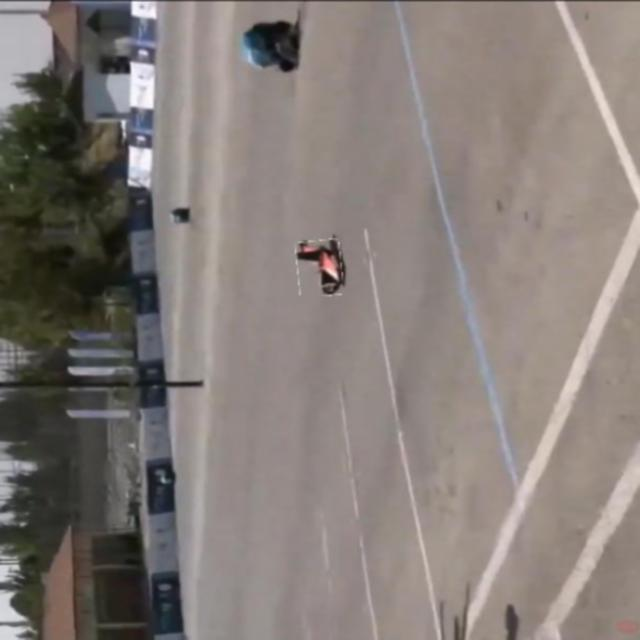plane: (295, 233, 348, 296)
